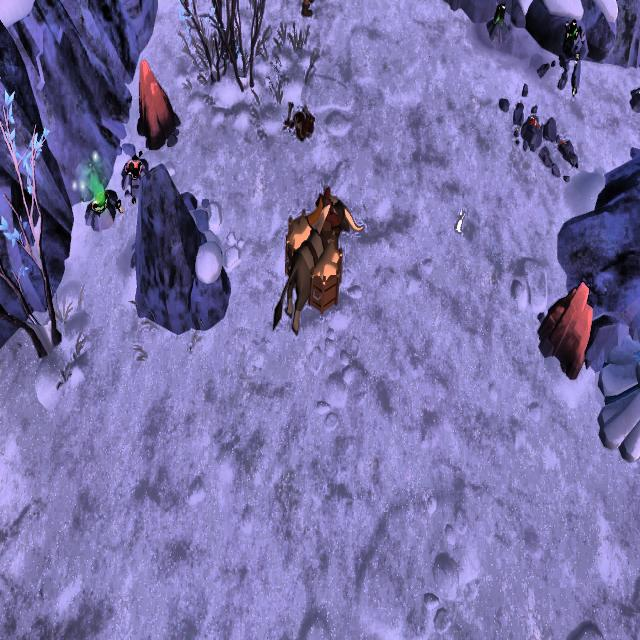ore_t3: (487, 0, 508, 38)
rock_t5: (532, 279, 594, 380), (133, 54, 182, 150)
